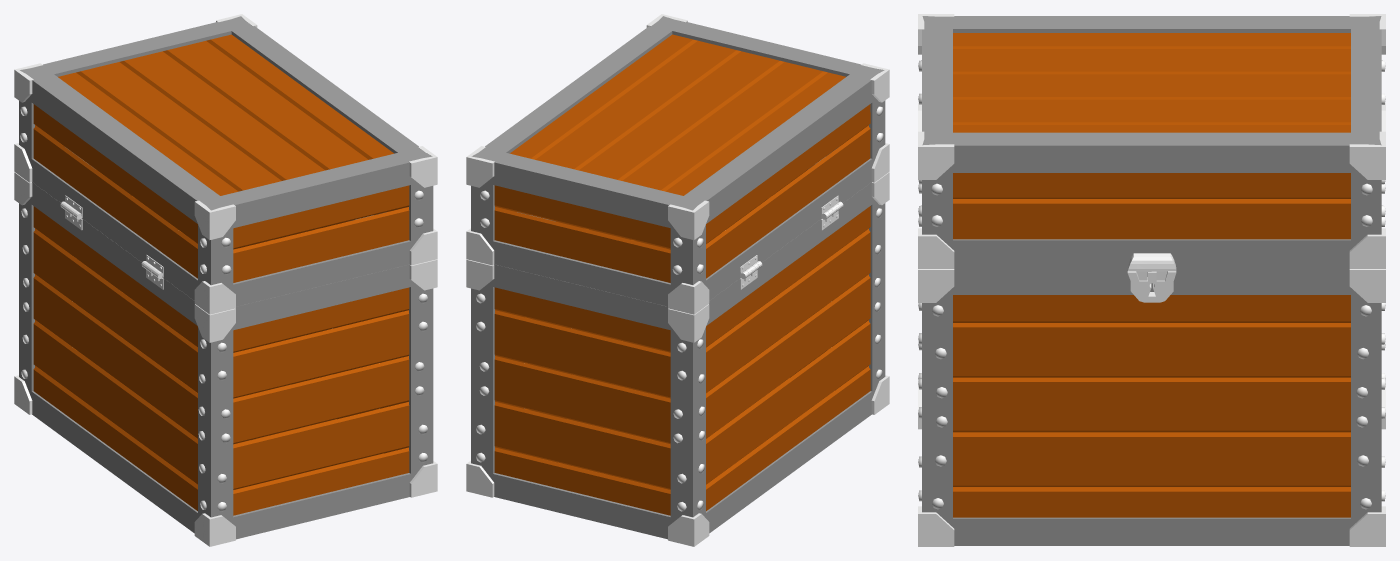
Rendered from ChestHighBoxTop.fbx.
3 views of the same model, side by side, from view 1: azimuth 30°, elevation 25°; view 2: azimuth 150°, elevation 25°; view 3: azimuth 270°, elevation 25° (orthographic). The views are drawn at different scales.
Visible parts, largest first — view 1: ChestHighBoxTop_LOD0; view 2: ChestHighBoxTop_LOD0; view 3: ChestHighBoxTop_LOD0.
Part boxes in pixels (<box>): ChestHighBoxTop_LOD0: <box>14,14,437,546</box>; ChestHighBoxTop_LOD0: <box>466,14,889,546</box>; ChestHighBoxTop_LOD0: <box>918,14,1385,546</box>.
Size of what is drawn, in the model's own units: 347 by 472 by 497.
